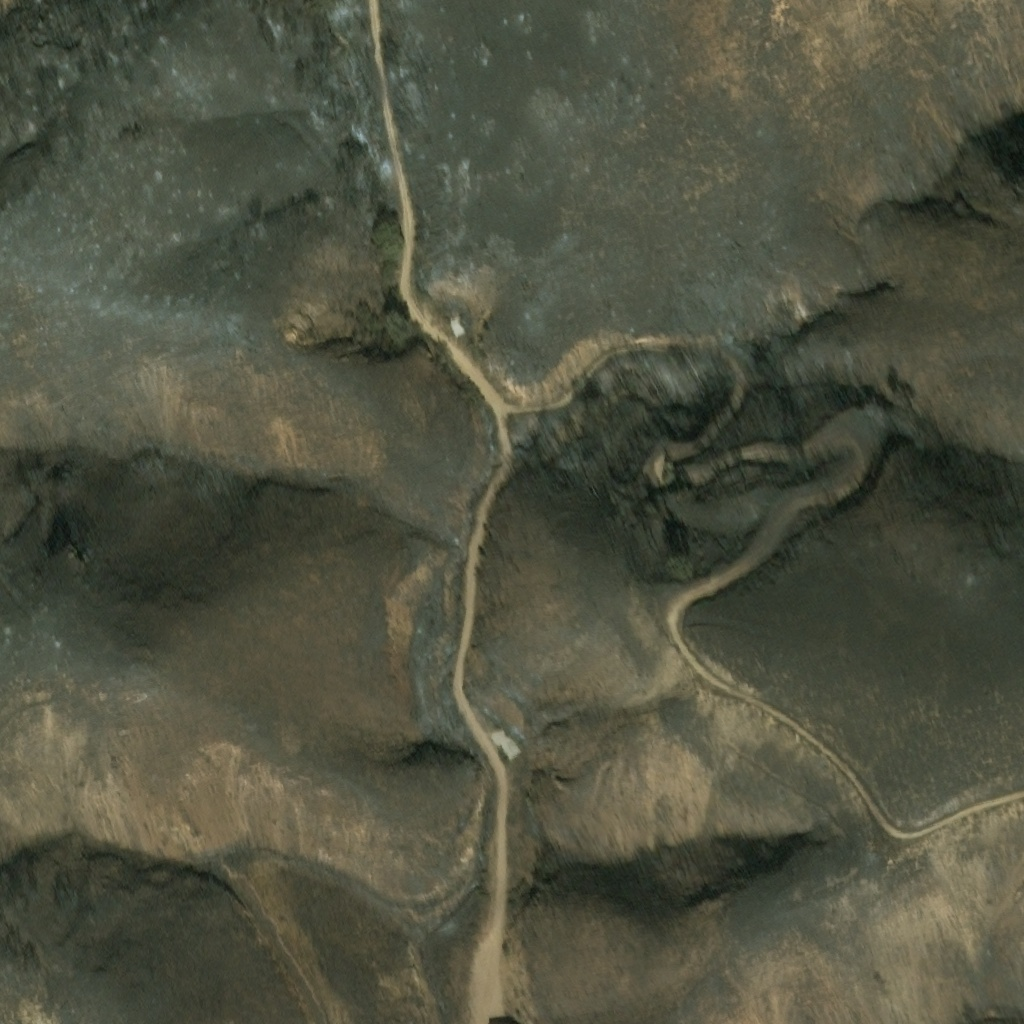0 no-damage: (483, 1010, 528, 1023)
